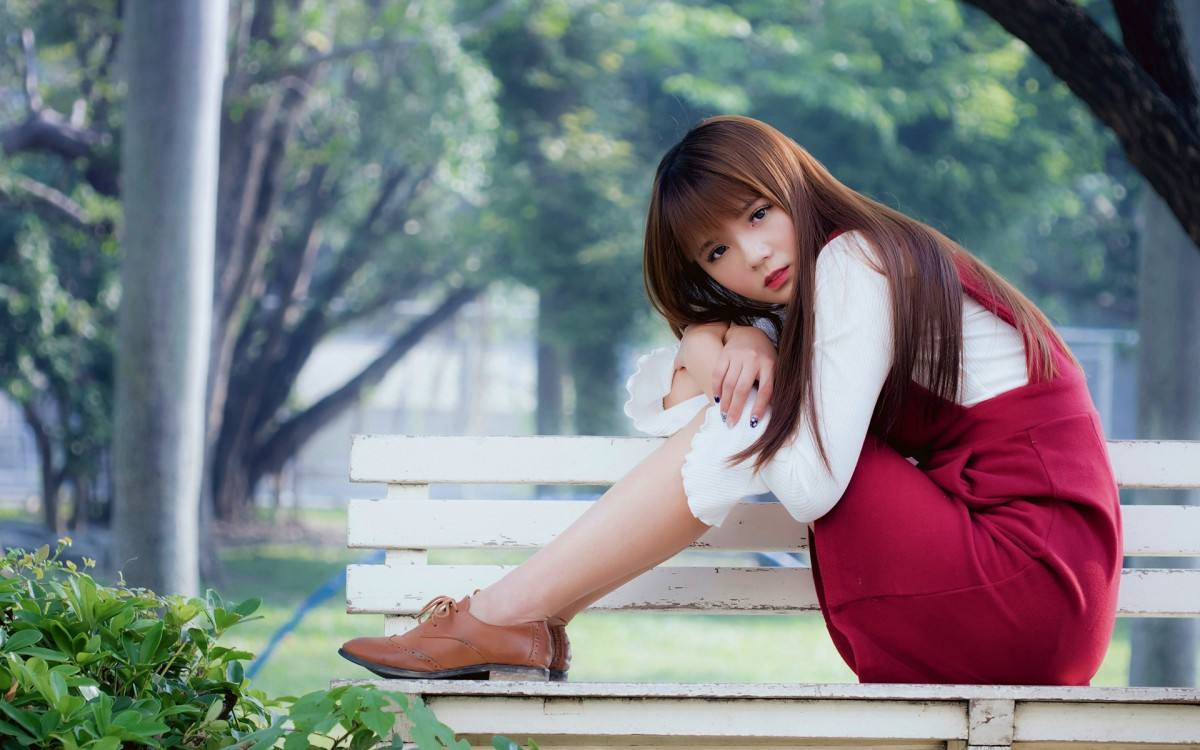person: (579, 87, 1003, 663)
